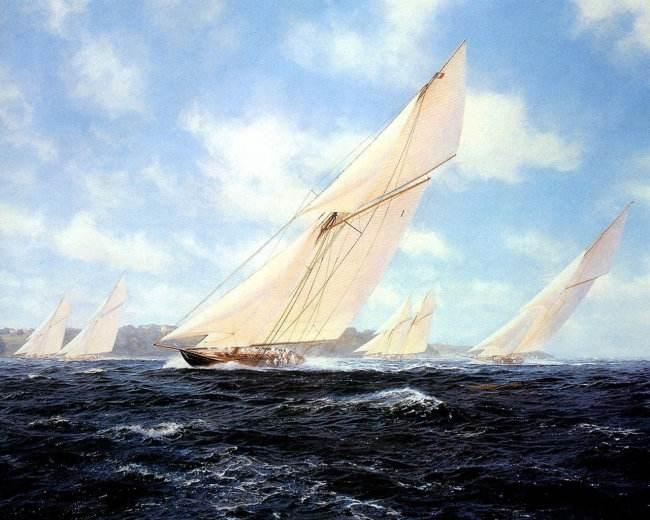fanchuan: (153, 35, 490, 373), (465, 197, 637, 370), (358, 291, 444, 362), (61, 274, 130, 359), (11, 292, 73, 355)
